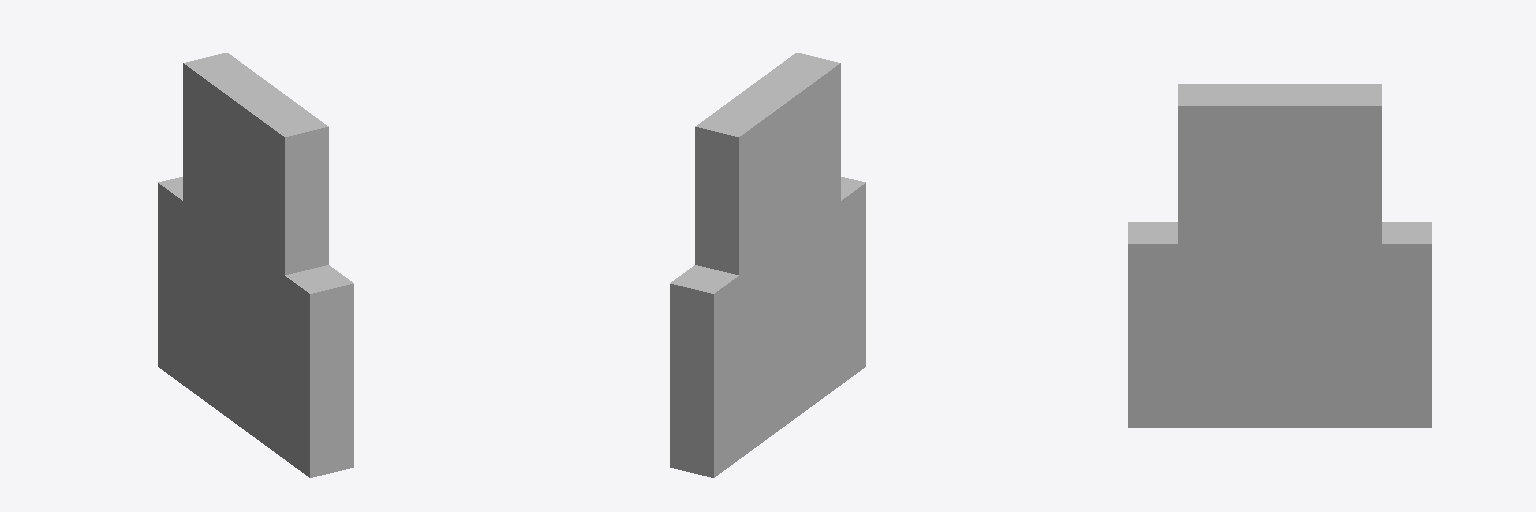
Rendered from MovingThing.obj.
The picture shows the model from 3 angles: view 1: azimuth 30°, elevation 25°; view 2: azimuth 150°, elevation 25°; view 3: azimuth 270°, elevation 25°; orthographic projection.
Visible parts, largest first — view 1: cube; view 2: cube; view 3: cube.
Part boxes in pixels (x1,y1,x2,y2): cube: (158, 53, 353, 477); cube: (670, 53, 865, 477); cube: (1128, 84, 1431, 427).
Size of the model in its own units: 0.0625 by 0.4375 by 0.375.